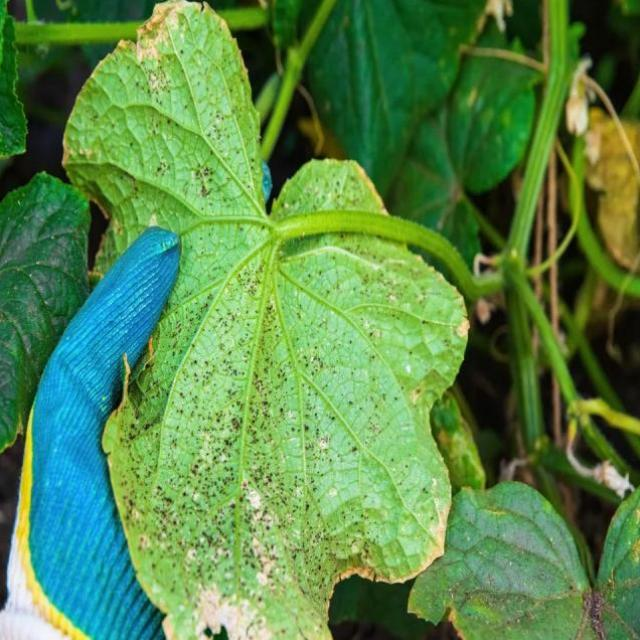Aphids: (163, 452, 293, 640), (231, 344, 307, 459), (170, 323, 240, 438), (126, 4, 216, 68), (183, 156, 235, 216)
